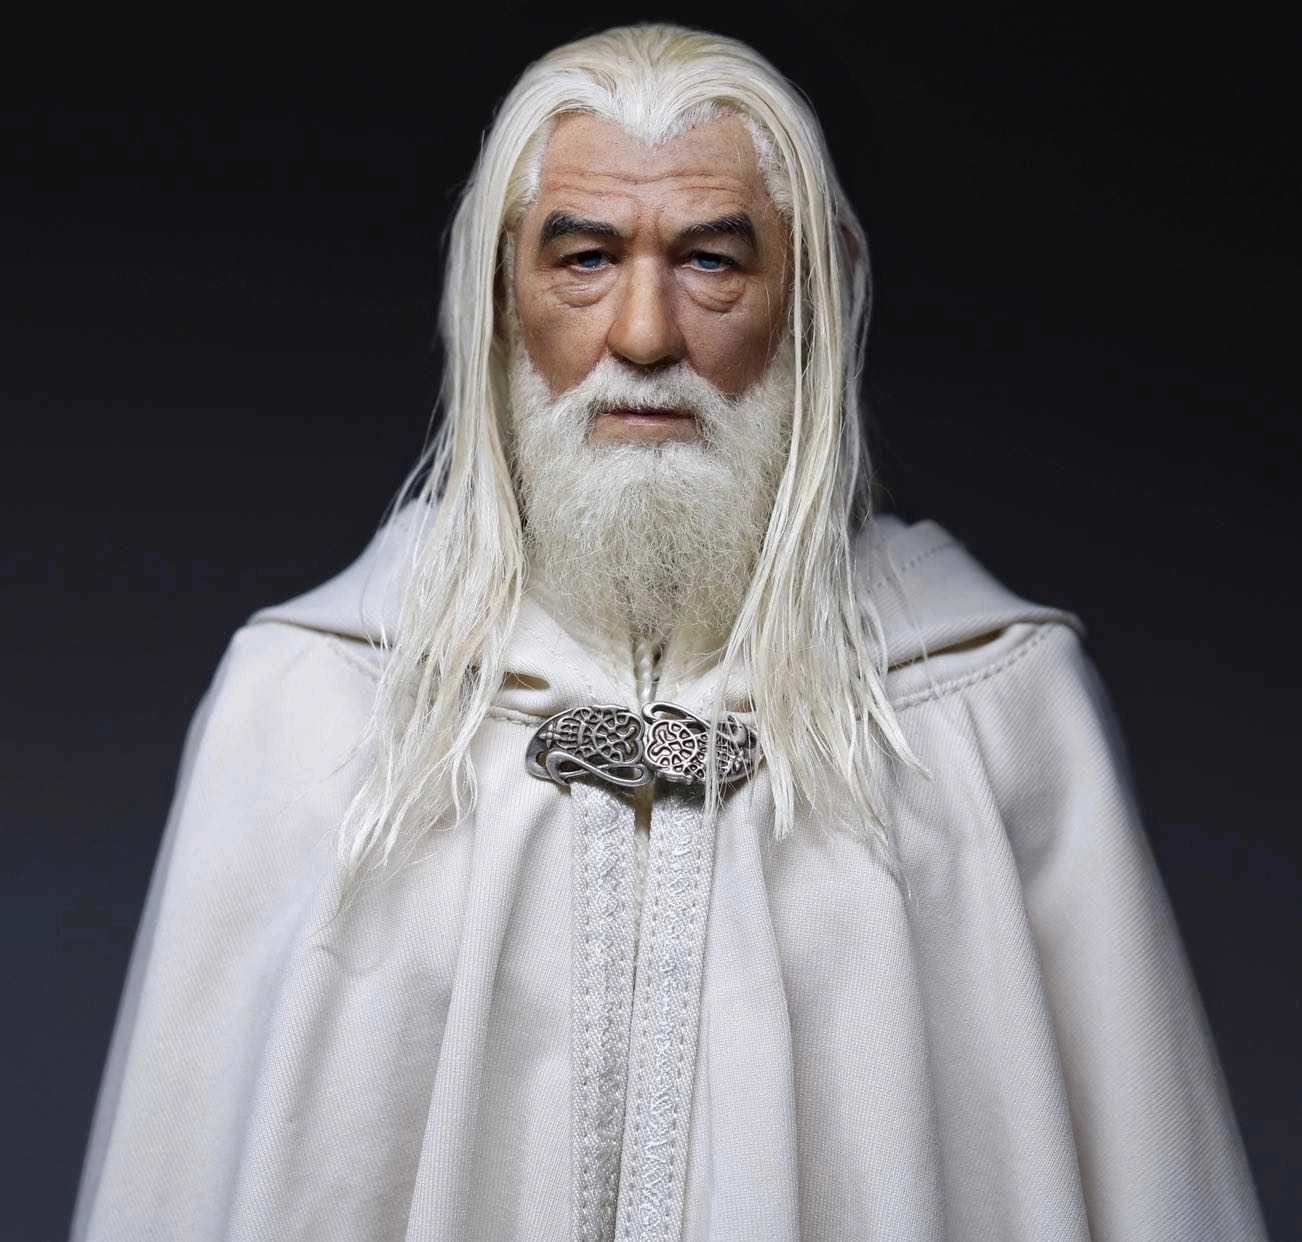gandalf gray: (115, 22, 1247, 1232)
